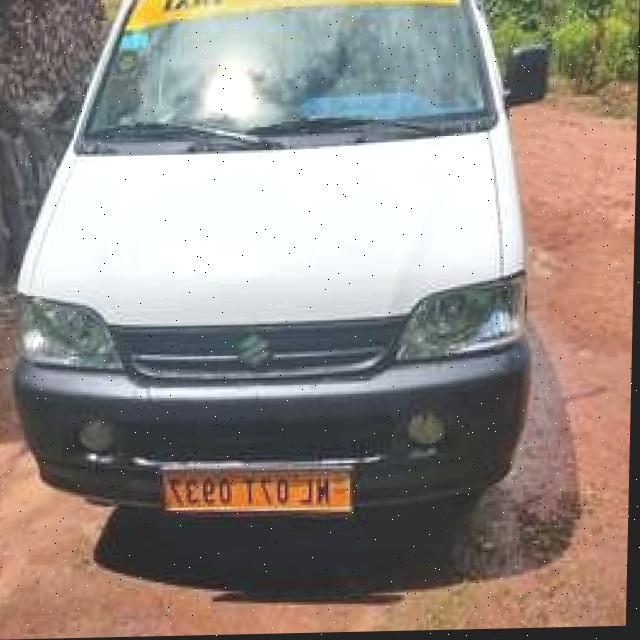plate: (166, 467, 359, 521)
